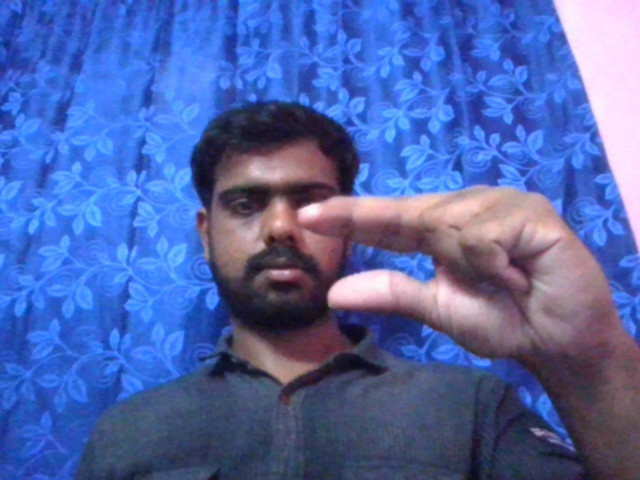No: (291, 168, 607, 351)
